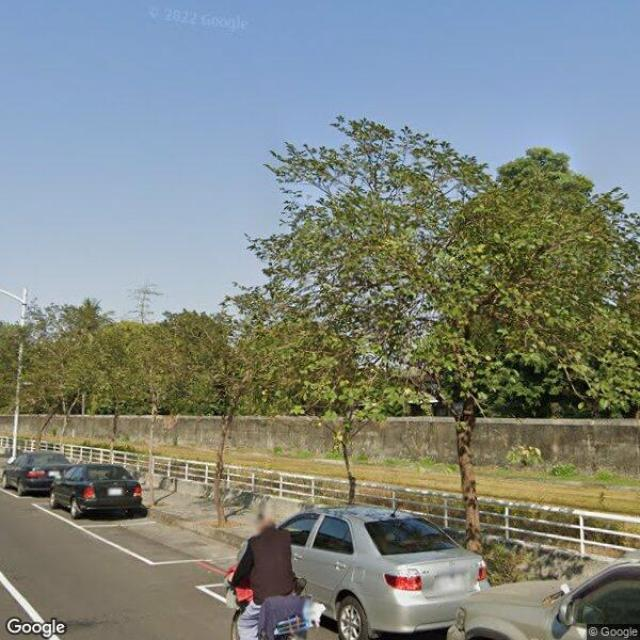Legalparking: (279, 506, 560, 639), (0, 452, 143, 518)
